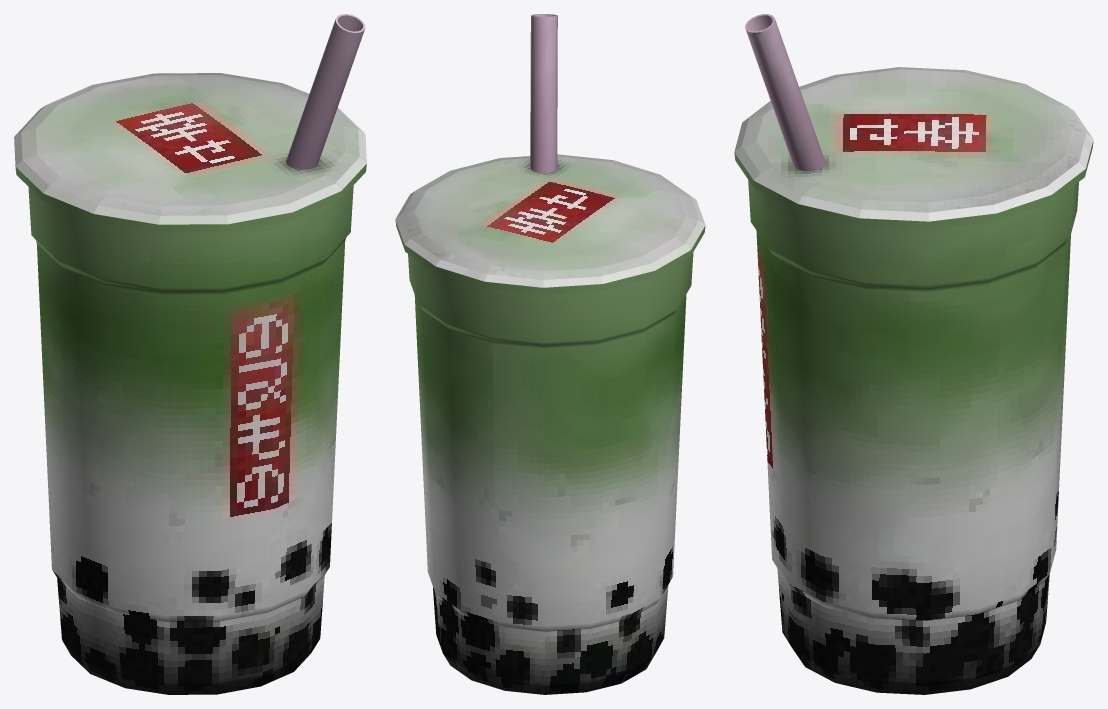
File: coffee.glb
The picture shows the model from 3 angles, left to right: view 1: azimuth 30°, elevation 25°; view 2: azimuth 150°, elevation 25°; view 3: azimuth 270°, elevation 25°; orthographic projection. The views are drawn at different scales.
Visible parts, largest first — view 1: pCylinder17_boba_blinn_texture_0; view 2: pCylinder17_boba_blinn_texture_0; view 3: pCylinder17_boba_blinn_texture_0.
Boxes of the visible parts, <box> form: pCylinder17_boba_blinn_texture_0: <box>14,14,366,694</box>; pCylinder17_boba_blinn_texture_0: <box>395,14,705,694</box>; pCylinder17_boba_blinn_texture_0: <box>734,14,1093,694</box>.
Size of the model in its own units: 0.0162 by 0.033 by 0.0162.
1 material, 1 textured.
